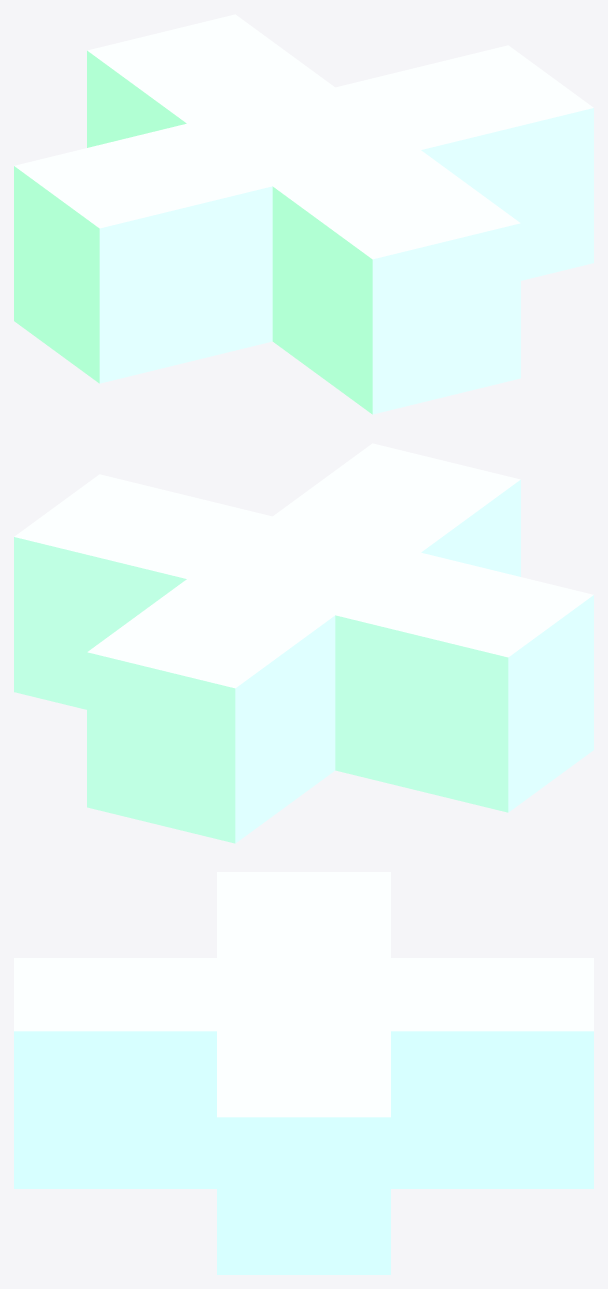
The model's file is pickup_heal.glb.
3 views of the same model, one above another, from view 1: azimuth 30°, elevation 25°; view 2: azimuth 150°, elevation 25°; view 3: azimuth 270°, elevation 25° (orthographic).
Visible parts, largest first — view 1: h2, h1; view 2: h2, h1; view 3: h1, h2.
Boxes of the visible parts, x1=… form: h2: x1=14, y1=45, x2=593, y2=383; h1: x1=87, y1=14, x2=520, y2=414; h2: x1=14, y1=474, x2=593, y2=812; h1: x1=87, y1=443, x2=520, y2=843; h1: x1=14, y1=958, x2=593, y2=1188; h2: x1=217, y1=872, x2=390, y2=1274.
Size of the model in its own units: 0.8 by 0.24 by 0.8.
